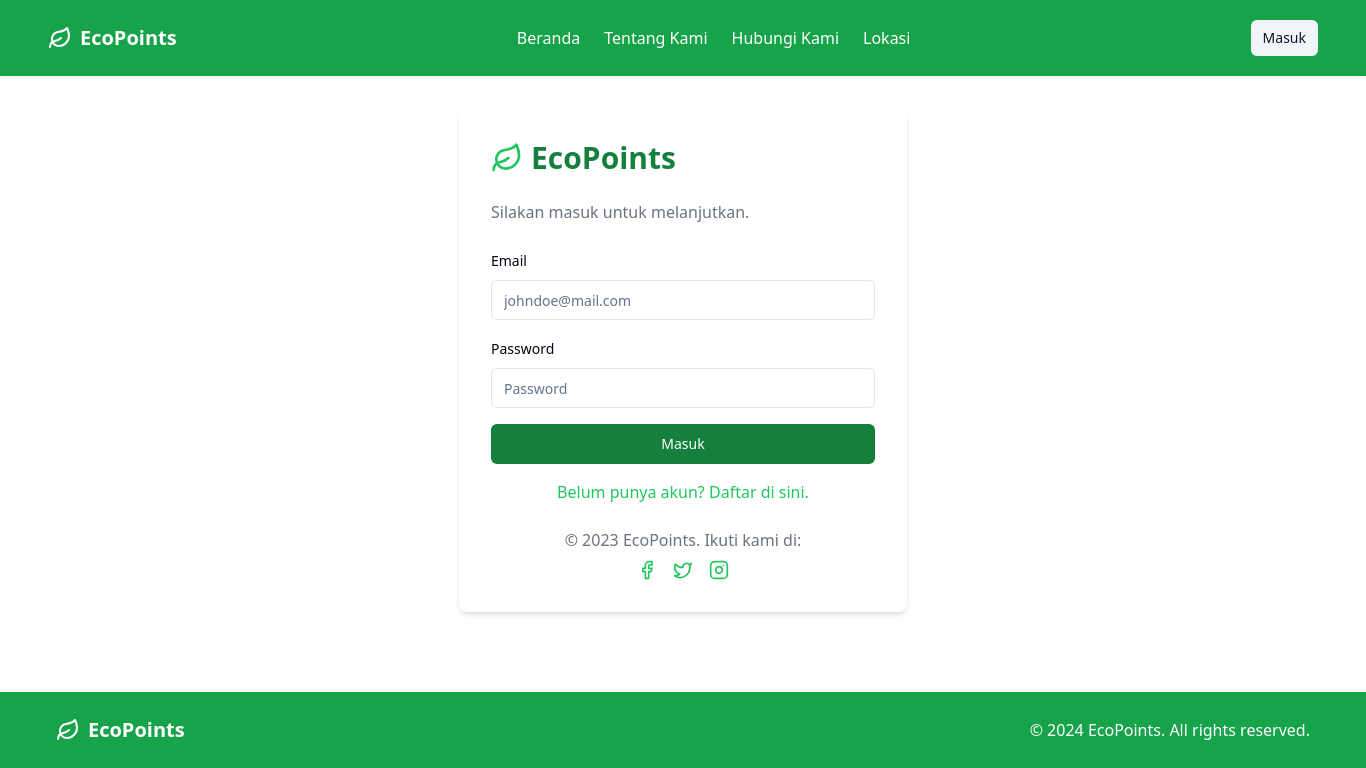
Scenario: Login Page › Action for Login page › should display failed toast when using incorrect credentials (password)
The width and height of the screenshot is (1366, 768).
Type "ardi@gmail.com" into the field with test id "input-email".
click(683, 300); type("ardi@gmail.com")  # box x1=491 y1=280 x2=875 y2=320
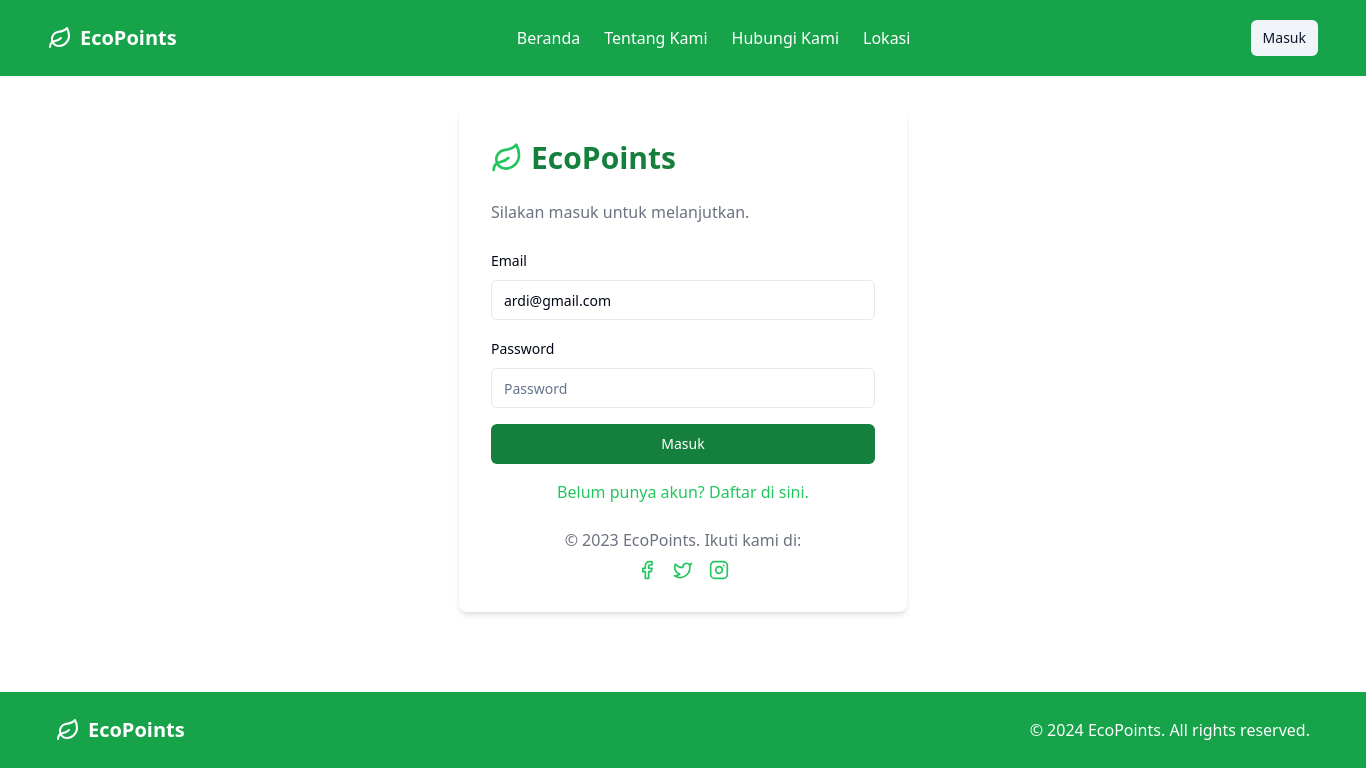
Type "wrongpass" into the password field with test id "input-password".
click(683, 388); type("wrongpass")  # box x1=491 y1=368 x2=875 y2=408
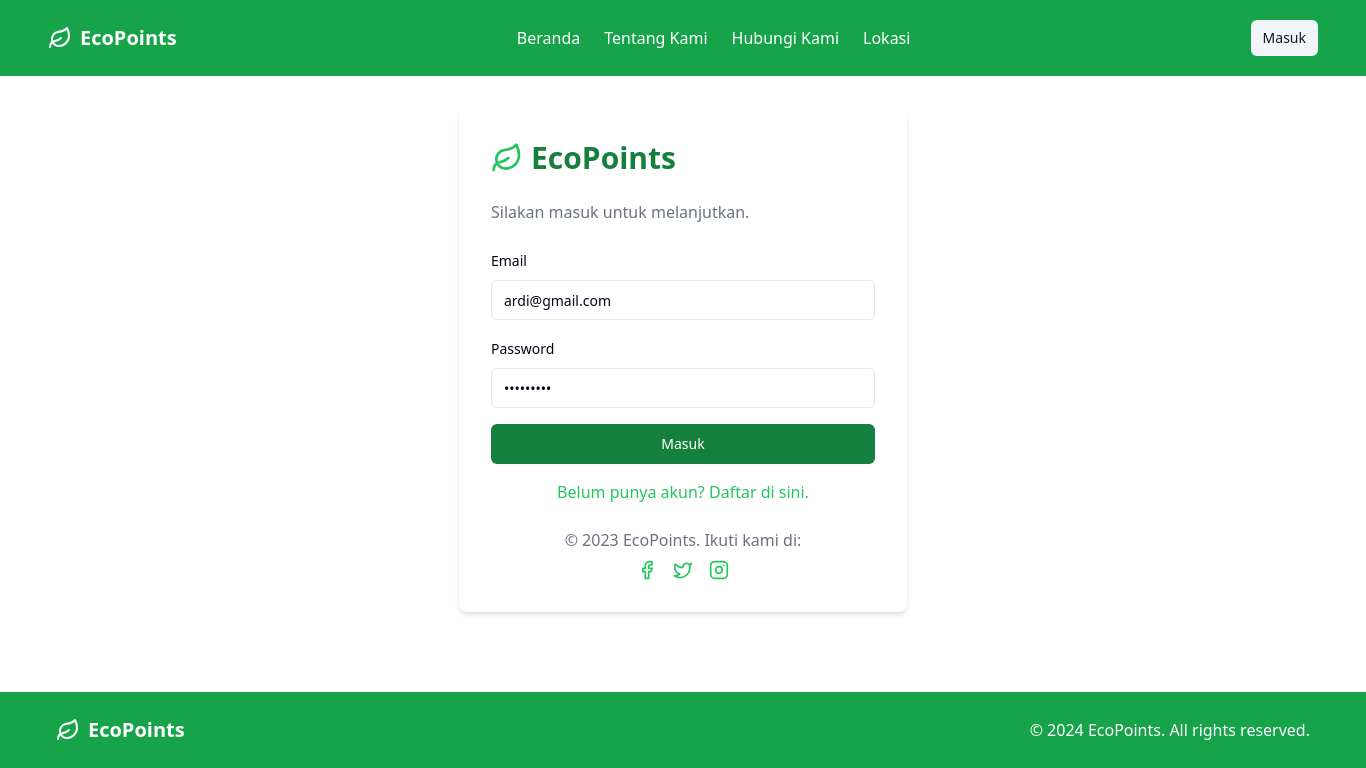
Click the button with test id "btn-submit".
click(683, 444)  # box x1=491 y1=424 x2=875 y2=464
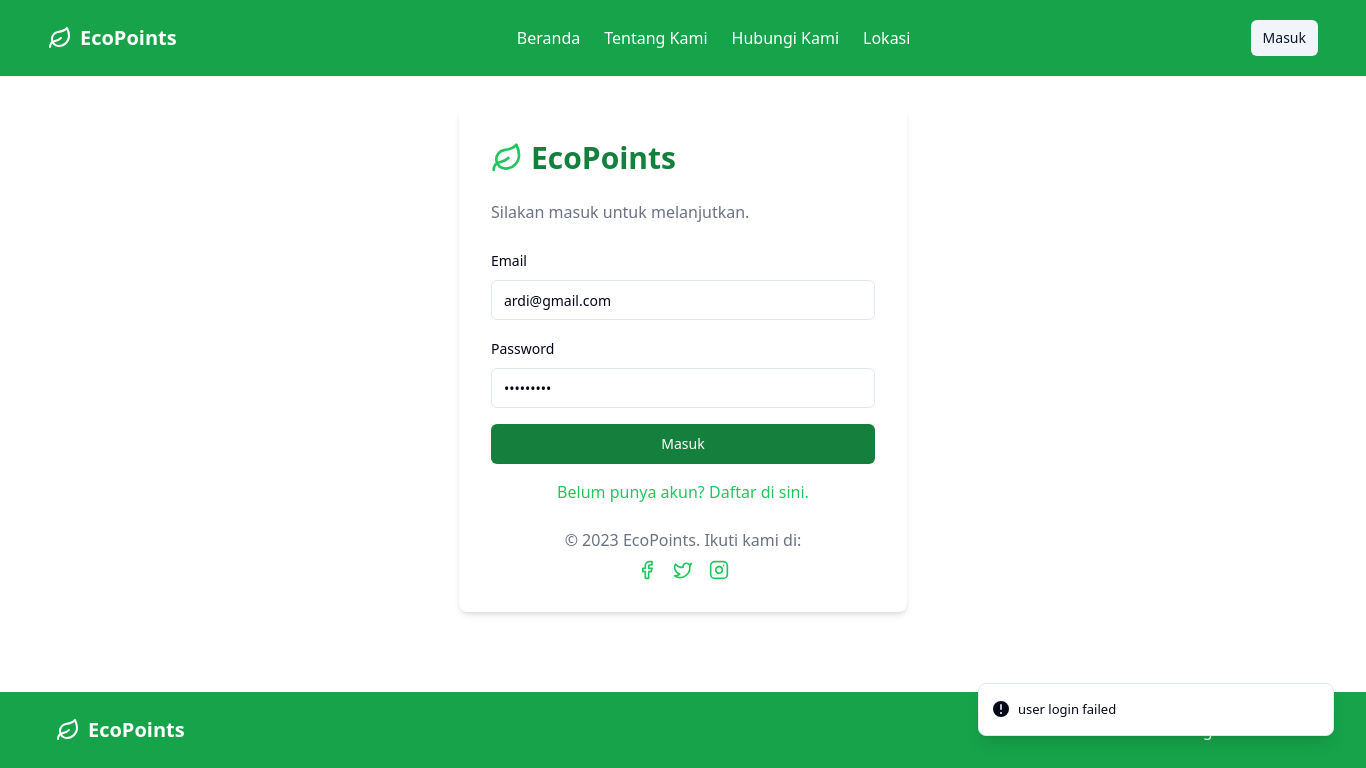
Result: the text "user login failed" is shown at x1=1018 y1=700 x2=1116 y2=719
